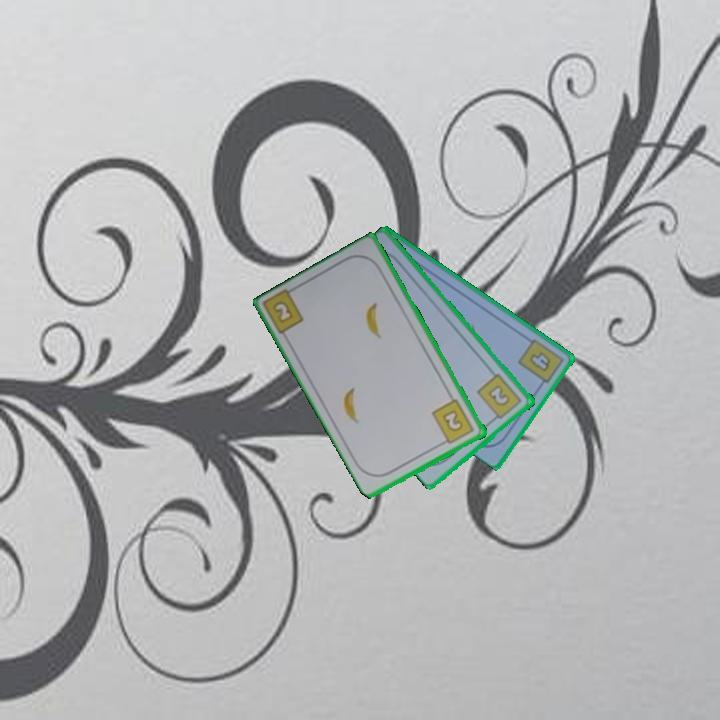2b: (474, 370, 525, 424), (429, 396, 477, 448), (269, 297, 296, 326)
4b: (515, 335, 567, 390)
